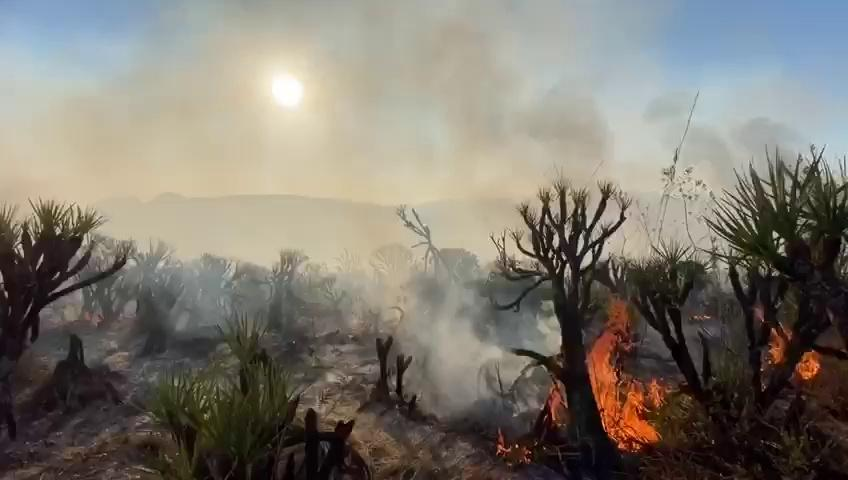fire: (70, 96, 186, 190), (418, 315, 492, 398)
